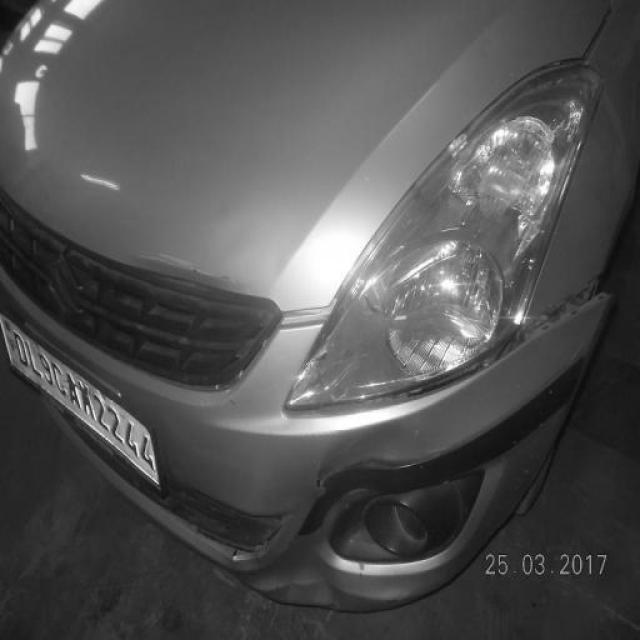dent: (234, 426, 433, 608)
tear: (334, 281, 611, 415)
